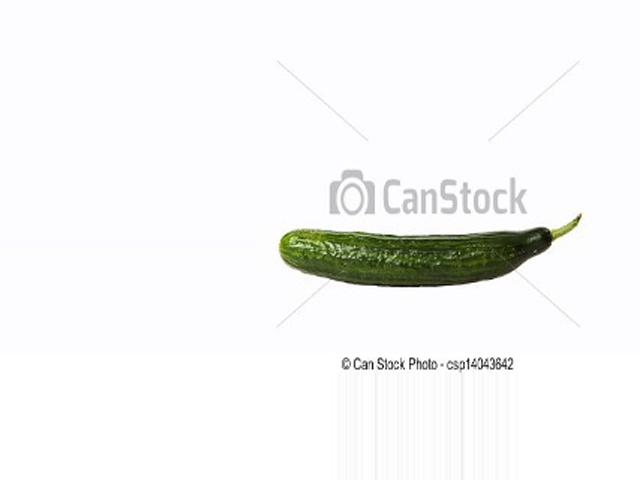cucumber: (280, 215, 583, 287)
